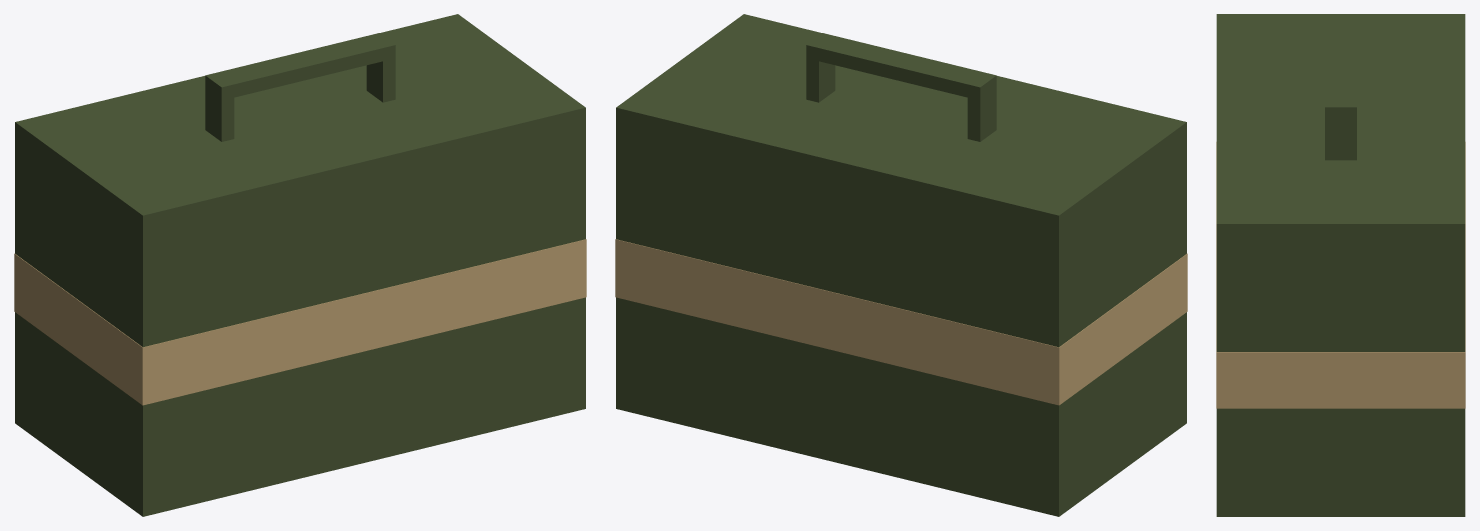
The model's file is ammo_can.glb.
3 views of the same model, side by side, from view 1: azimuth 30°, elevation 25°; view 2: azimuth 150°, elevation 25°; view 3: azimuth 270°, elevation 25° (orthographic). The views are drawn at different scales.
Visible parts, largest first — view 1: package:carton; view 2: package:carton; view 3: package:carton.
Part boxes in pixels (box(x1,y1,x2,y2)): package:carton: box(14, 14, 586, 516); package:carton: box(615, 14, 1187, 516); package:carton: box(1216, 14, 1465, 516).
Size of the model in its own units: 0.2806 by 0.215 by 0.1406.
